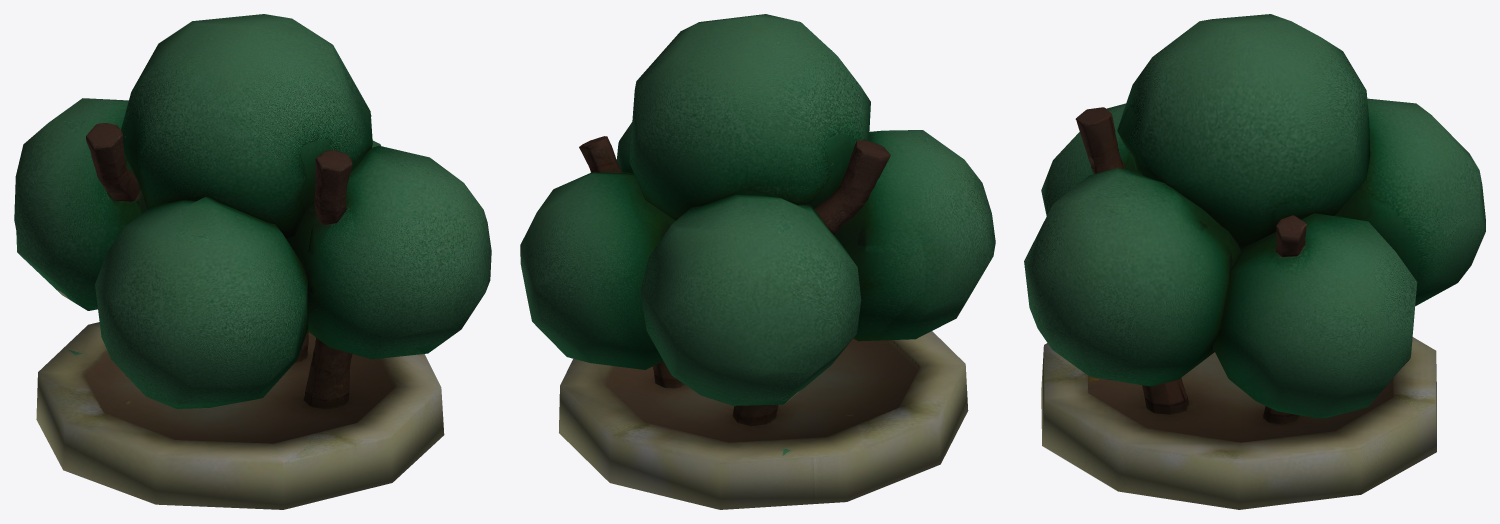
File: tripo_convert_60872991-705d-4752-9ca5-5a5ed3af5f21.fbx
3 renders of one model, left to right at view 1: azimuth 30°, elevation 25°; view 2: azimuth 150°, elevation 25°; view 3: azimuth 270°, elevation 25°, orthographic.
Parts seen in each view (by area): view 1: tripo_node_60872991; view 2: tripo_node_60872991; view 3: tripo_node_60872991.
Part boxes in pixels (x1,y1,x2,y2): tripo_node_60872991: (14,14,491,509); tripo_node_60872991: (520,14,995,509); tripo_node_60872991: (1024,14,1485,509).
Bounding box in the file's own units: 0.9277 × 0.9668 × 0.998.
Materials: 1 (1 with a texture image).
